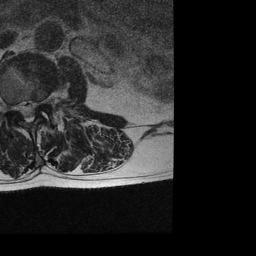CCS_normal: (25, 92, 31, 129)
LFS_severe_stenosis: (39, 89, 45, 112)
LLS_normal: (31, 91, 38, 123)
RFS_stenosis: (10, 94, 18, 118)
RLS_normal: (18, 92, 25, 122)
